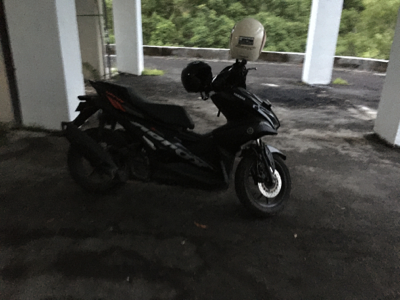moto: (63, 51, 294, 217)
